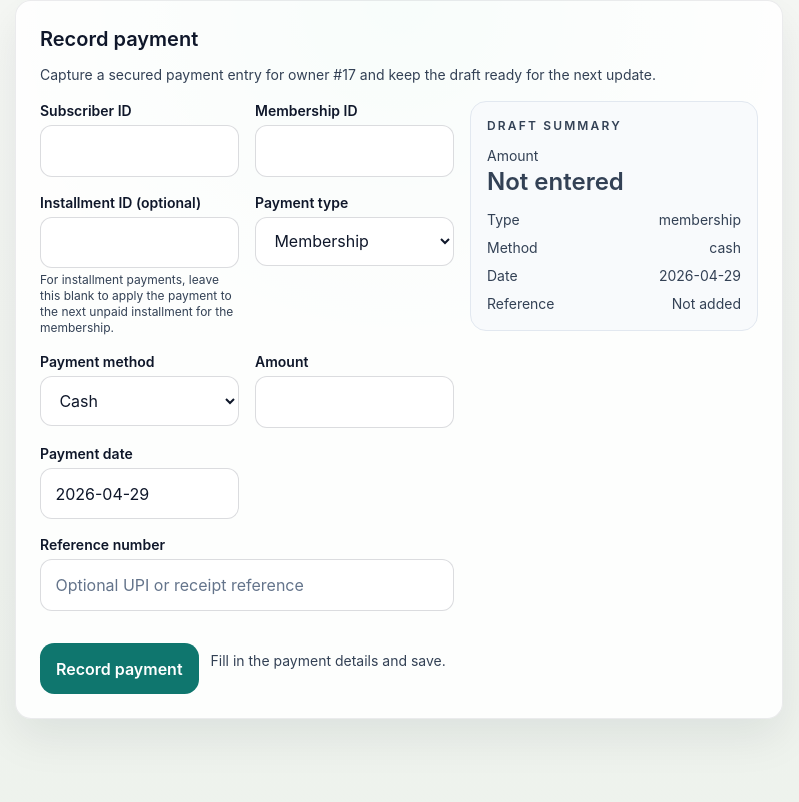
surfaces an API error without losing the current draft
Select "Installment" in the dropdown labelled "Payment type": (354, 241) 255,217 -> 454,266
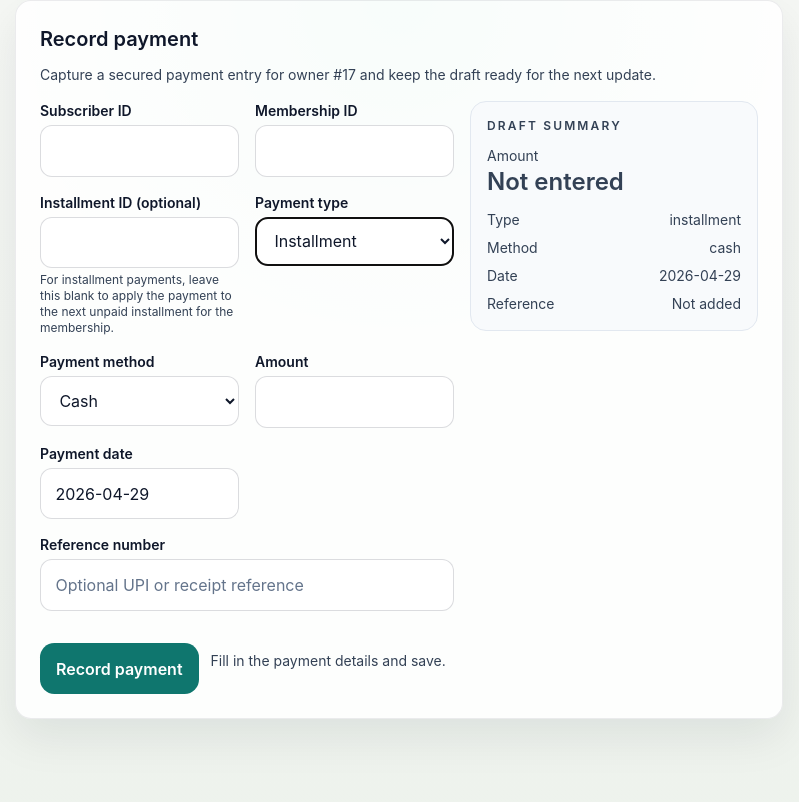
In the number field labelled "Subscriber ID": (140, 151) 40,125 -> 239,177, type "42"
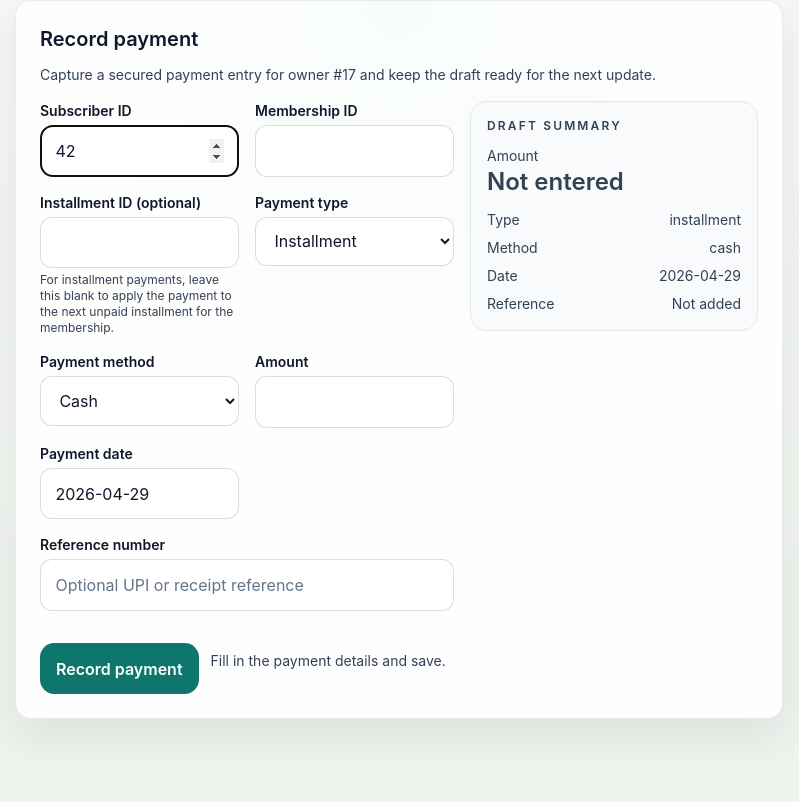
In the number field labelled "Amount": (354, 402) 255,376 -> 454,428, type "1250"
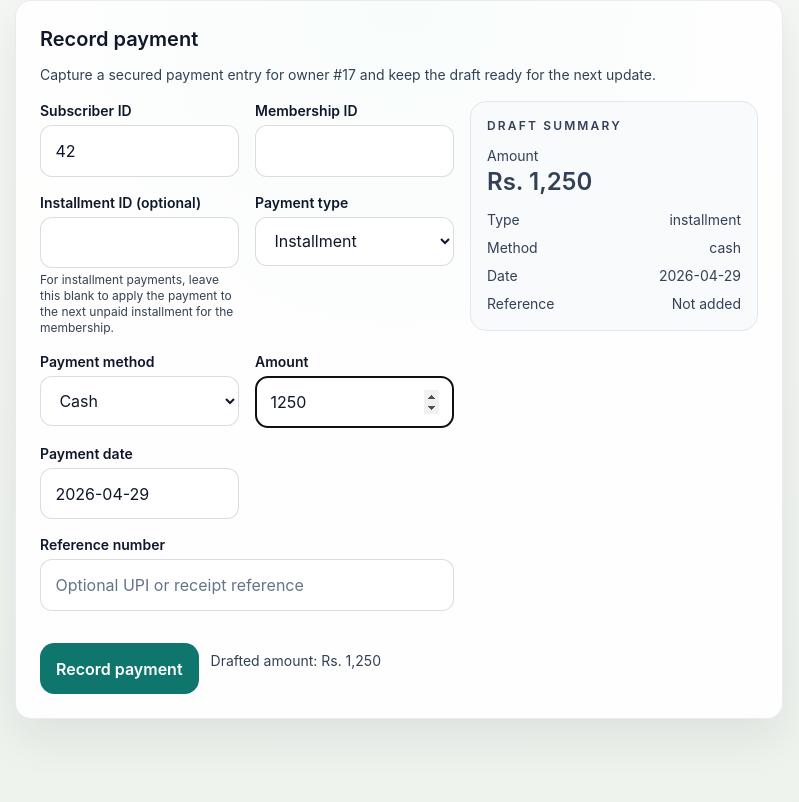
Click the button "Record payment": (119, 669) 40,643 -> 199,694
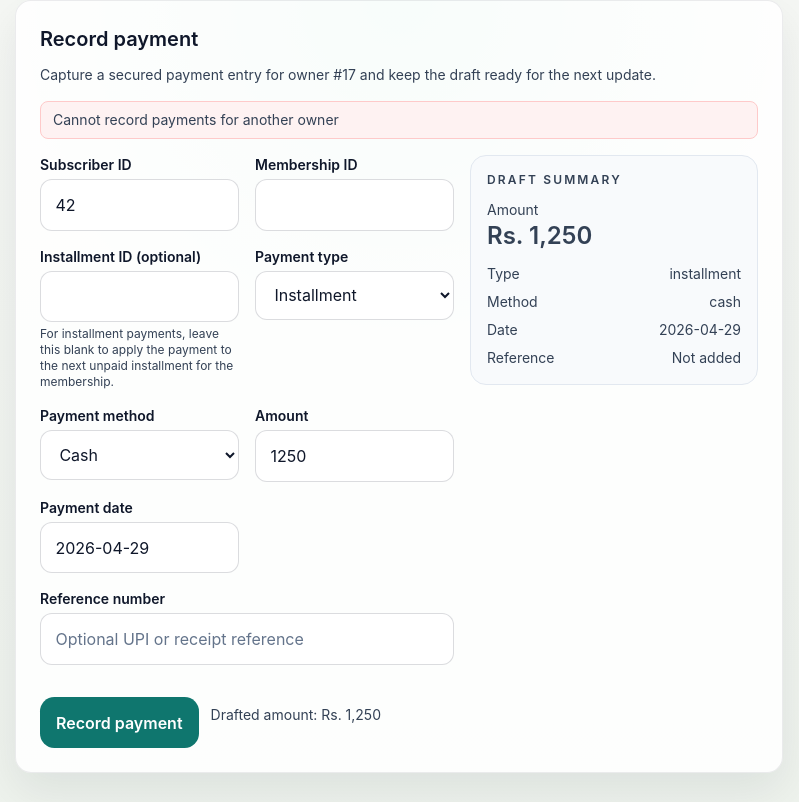
Now the text "Cannot record payments for another owner" is shown, box 40,101 -> 758,139
